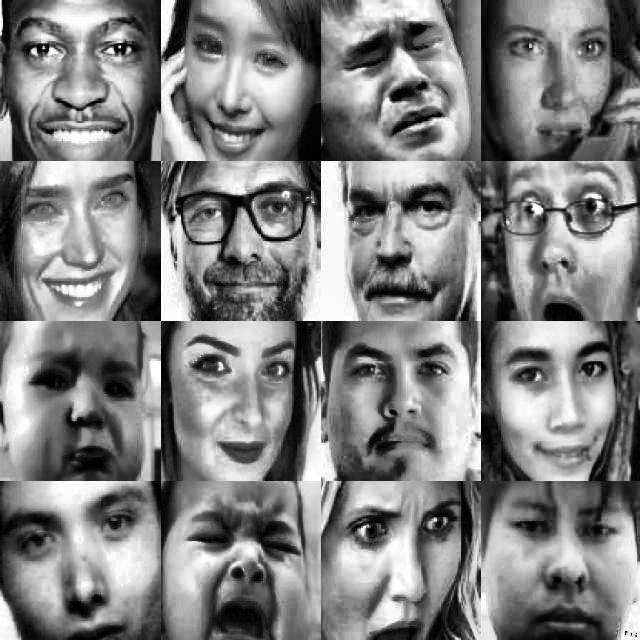angry: (165, 492, 307, 640), (348, 182, 470, 316)
fear: (499, 180, 633, 323), (503, 11, 631, 160), (329, 501, 463, 640)
happy: (10, 6, 144, 162), (176, 13, 310, 157), (7, 178, 143, 312), (172, 336, 300, 472), (495, 342, 619, 473), (335, 341, 458, 473)
neutral: (492, 494, 640, 640), (6, 486, 146, 640), (174, 172, 317, 312)
sad: (333, 19, 469, 153), (8, 338, 140, 474)
